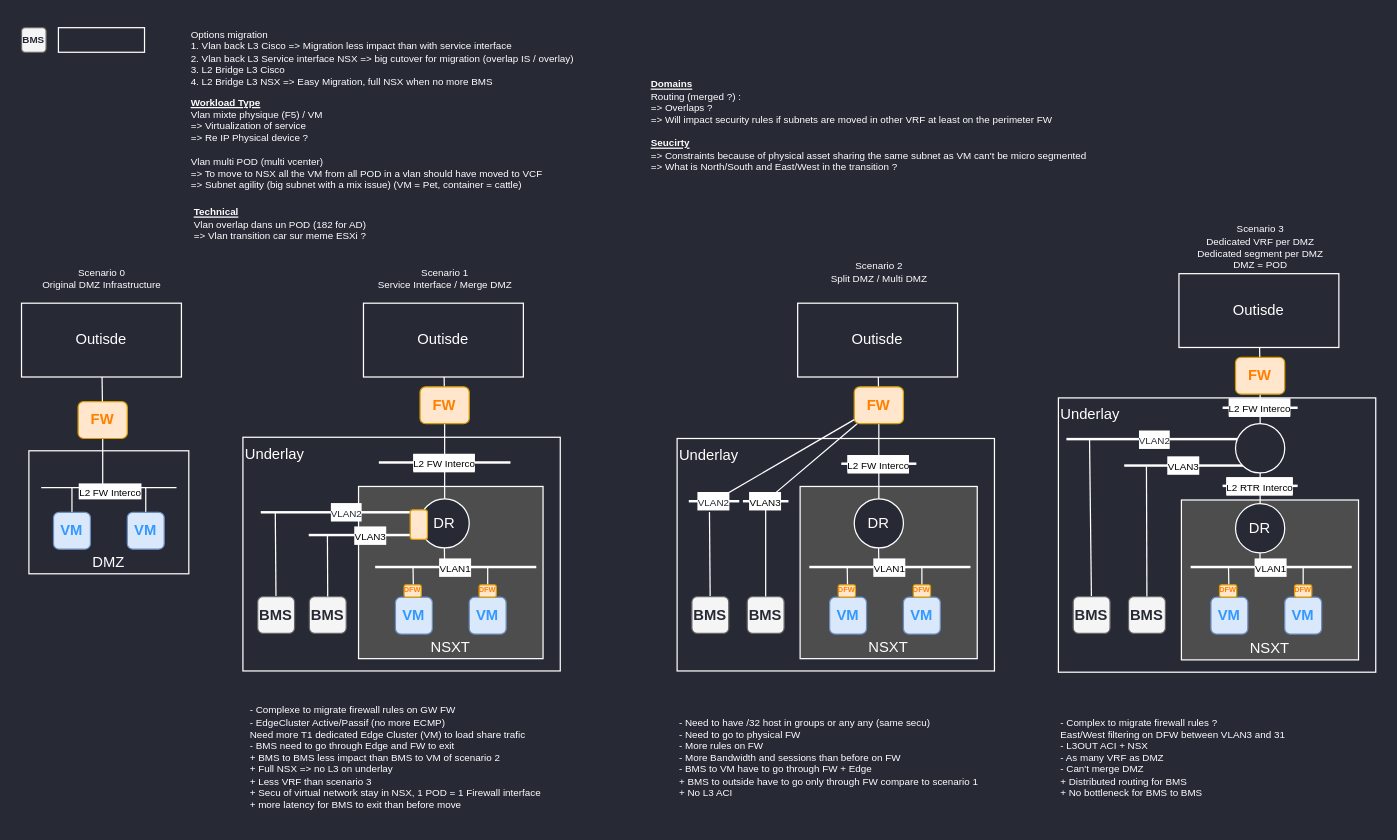
The diagram is 1397 pixels wide and 840 high, and some of its shapes have lost their labels. The shapes that lost their labels are listed below. From the top down, each one's centre as x and y in pixels, then its label:
point (101, 39): Physical Server
point (1259, 448): VRF
point (418, 524): GW FW
